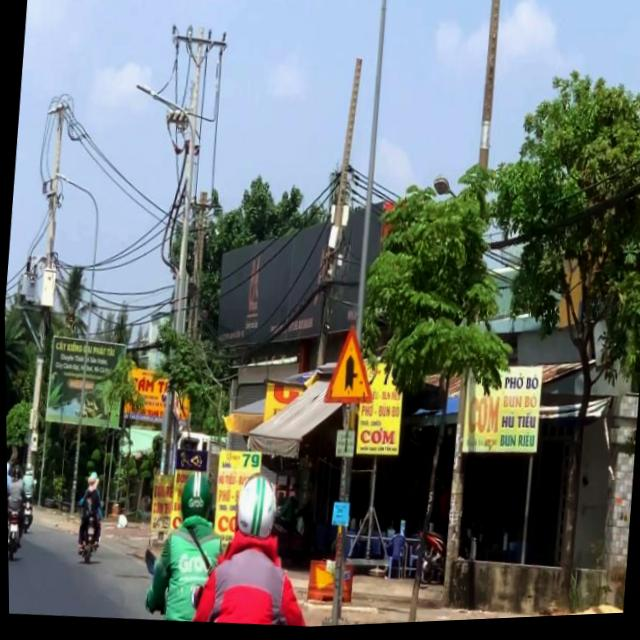Giao nhau voi duong khong uu tien ben phai: (318, 320, 381, 413)
